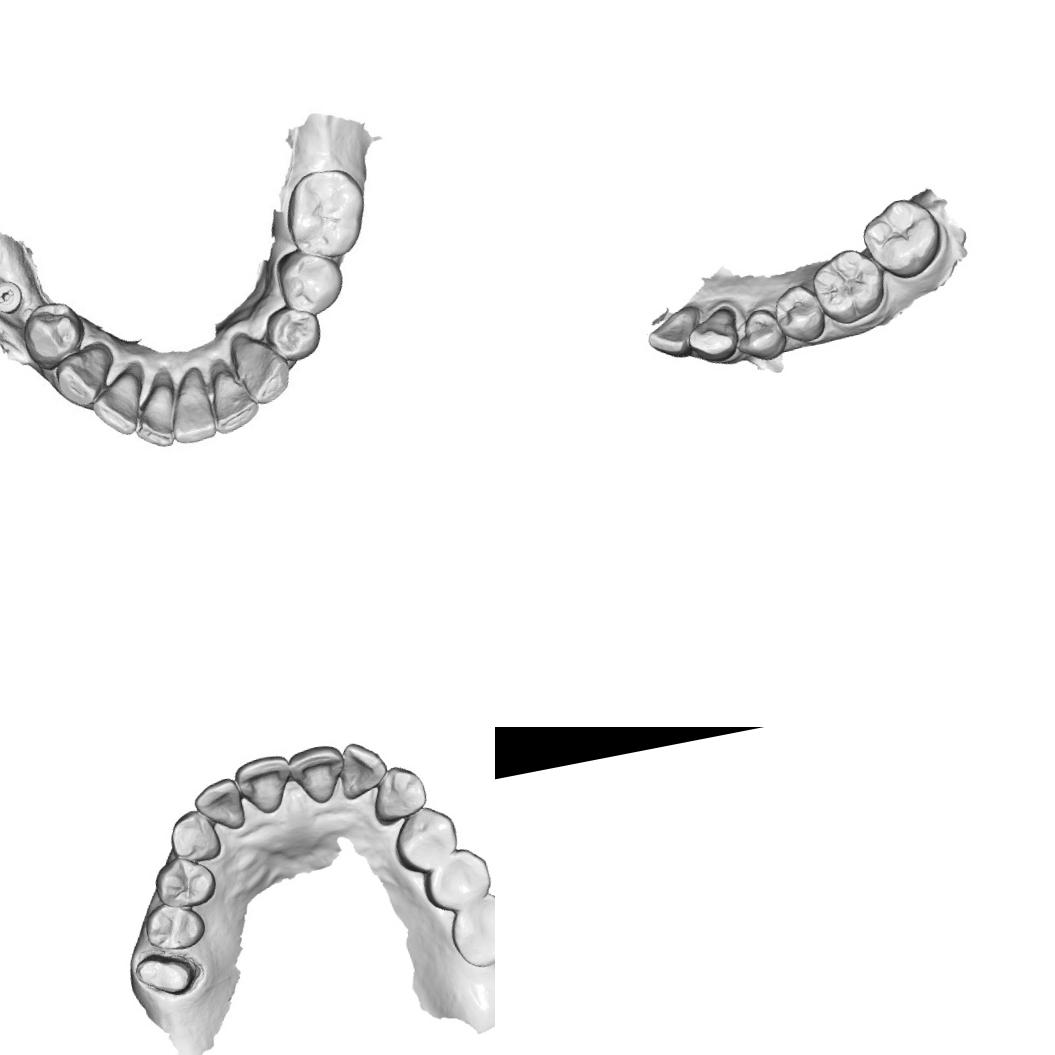canine: (48, 338, 122, 414), (228, 329, 296, 409), (365, 759, 431, 828), (681, 302, 745, 367), (165, 804, 226, 868)
crown: (127, 939, 207, 1006)
implant_minus: (0, 274, 27, 318)
incisor: (283, 739, 351, 810), (230, 750, 298, 821), (84, 368, 150, 441), (126, 378, 184, 455), (203, 362, 261, 436), (161, 376, 220, 447), (333, 735, 393, 802), (641, 302, 707, 362), (189, 774, 249, 837)
molar: (278, 160, 376, 266), (854, 190, 950, 286), (804, 242, 892, 330), (442, 888, 495, 972)
premolar: (272, 244, 350, 322), (386, 800, 464, 878), (416, 841, 495, 918), (18, 298, 87, 369), (148, 849, 221, 914), (138, 895, 210, 956), (768, 278, 829, 348), (262, 299, 326, 365), (730, 302, 788, 367)
